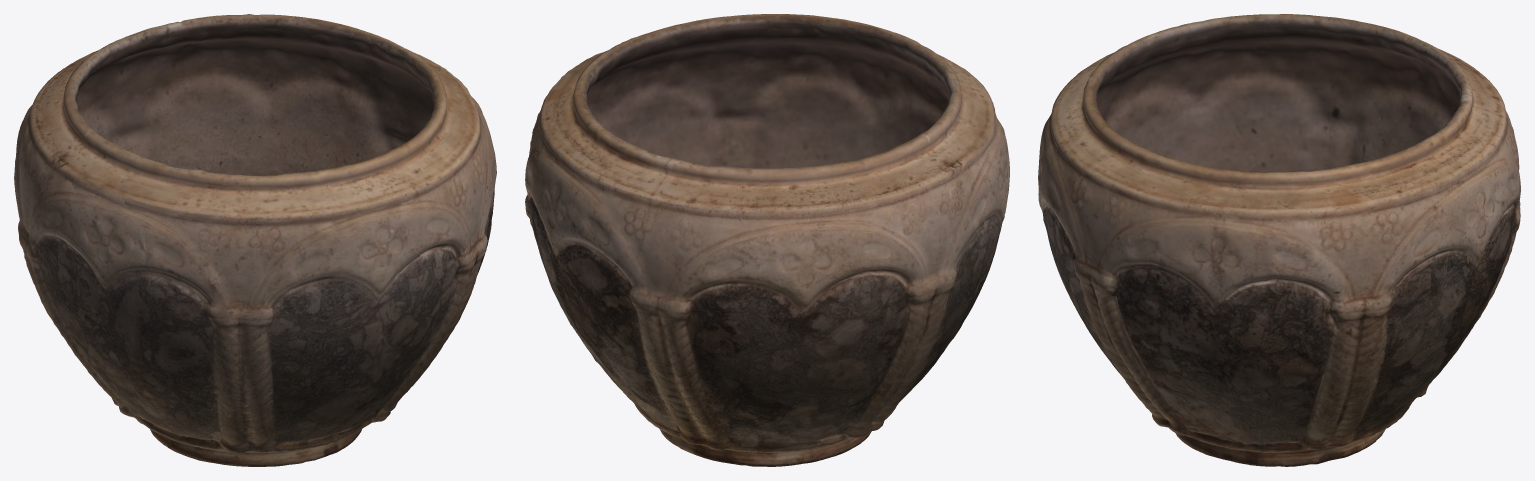
The model's file is Stone Flowerpot.fbx.
3 renders of one model, left to right at view 1: azimuth 30°, elevation 25°; view 2: azimuth 150°, elevation 25°; view 3: azimuth 270°, elevation 25°, orthographic.
Parts seen in each view (by area): view 1: 0_Pot_12K; view 2: 0_Pot_12K; view 3: 0_Pot_12K.
Part boxes in pixels (box(x1,y1,x2,y2)): 0_Pot_12K: box(14, 14, 496, 466); 0_Pot_12K: box(525, 14, 1009, 466); 0_Pot_12K: box(1038, 14, 1520, 466).
Size of the model in its own units: 59.48 by 45.07 by 59.45.
1 material, 1 textured.
